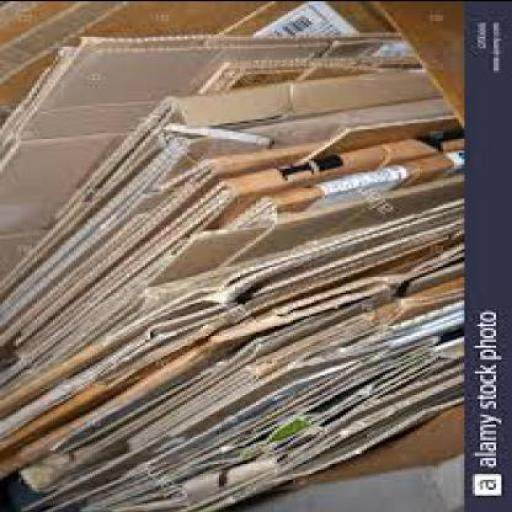cardboard: (0, 130, 459, 386), (0, 236, 459, 480), (0, 114, 457, 351), (0, 99, 448, 331), (0, 177, 459, 400), (0, 34, 412, 280), (0, 69, 441, 298), (0, 221, 459, 421), (0, 264, 459, 457), (16, 327, 459, 494), (18, 348, 463, 511), (0, 1, 265, 123), (219, 152, 459, 232), (261, 407, 459, 495), (366, 2, 462, 130), (192, 57, 428, 97), (0, 1, 119, 80), (216, 2, 396, 37), (0, 2, 69, 45), (0, 2, 37, 28)
